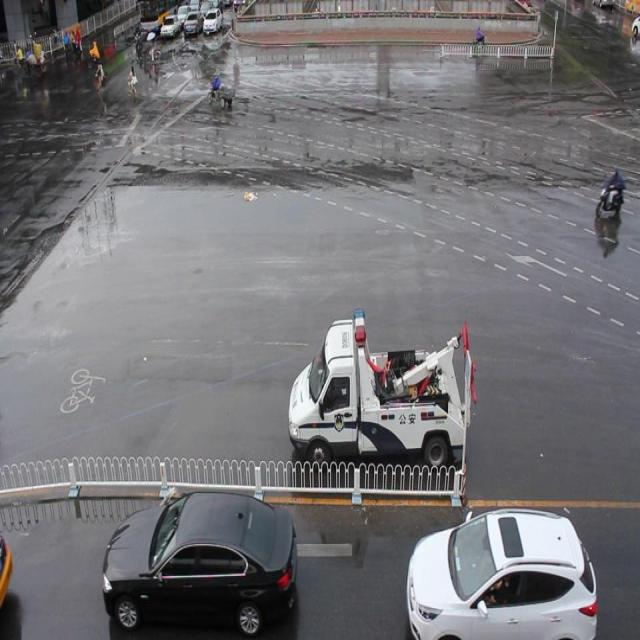bus: (287, 308, 474, 474)
car: (103, 487, 297, 633), (406, 507, 598, 640)
